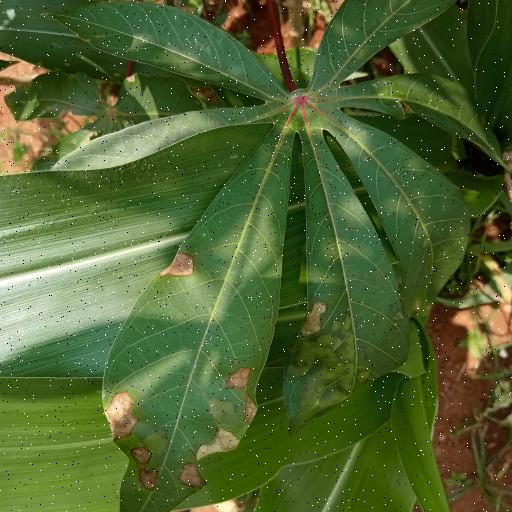Cassava_Brown_Leaf_Spot: (100, 253, 264, 503), (293, 276, 373, 414)
